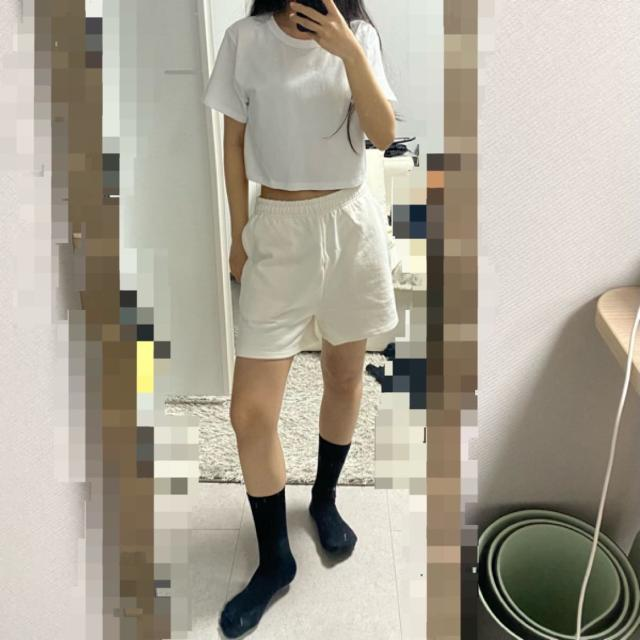shortpants: (237, 188, 394, 364)
shortsleeve: (209, 9, 401, 194)
